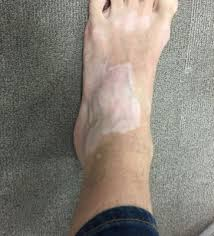vitiligo: (85, 4, 167, 143)
